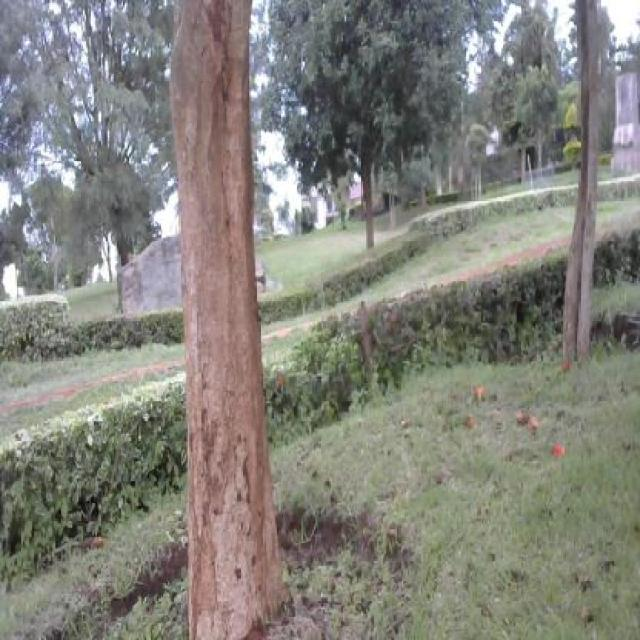tree trunk: (167, 2, 296, 635), (562, 12, 604, 372), (345, 30, 384, 265)
